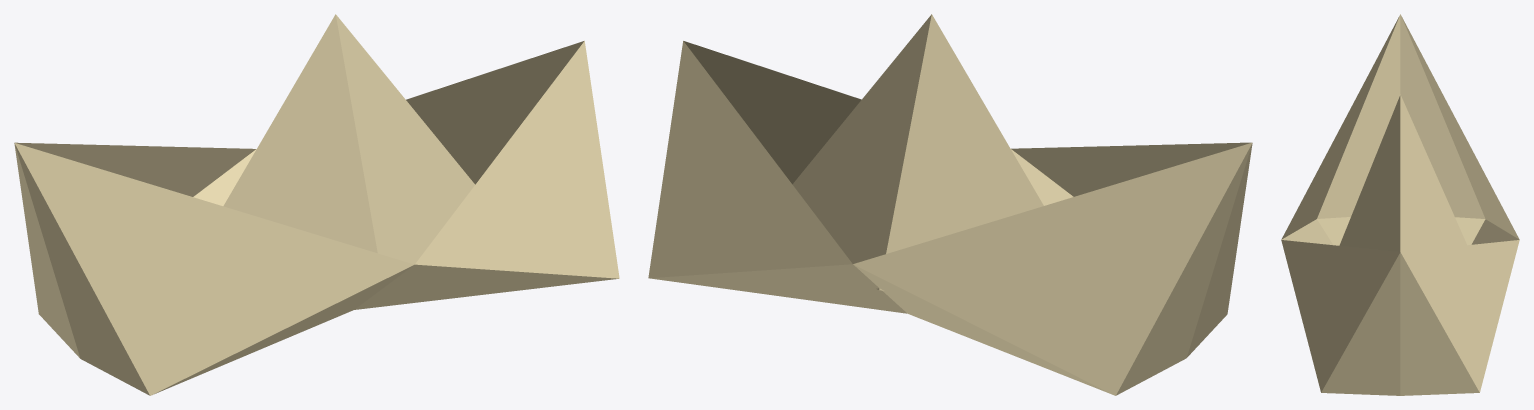
Rendered from VehiculoBarquitoPapel.fbx.
3 renders of one model, left to right at view 1: azimuth 30°, elevation 25°; view 2: azimuth 150°, elevation 25°; view 3: azimuth 270°, elevation 25°, orthographic. The views are drawn at different scales.
Parts seen in each view (by area): view 1: Vehiculo2; view 2: Vehiculo2; view 3: Vehiculo2.
Boxes of the visible parts, bbox=[...] form: Vehiculo2: bbox=[14, 14, 619, 395]; Vehiculo2: bbox=[648, 14, 1252, 395]; Vehiculo2: bbox=[1281, 14, 1519, 395].
Bounding box in the file's own units: 492 × 233 × 236.
